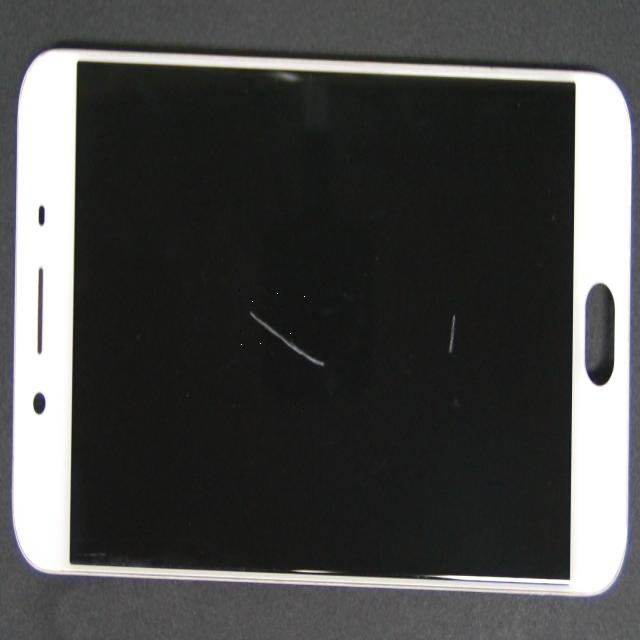scratch: (210, 152, 640, 521), (118, 159, 354, 482)
